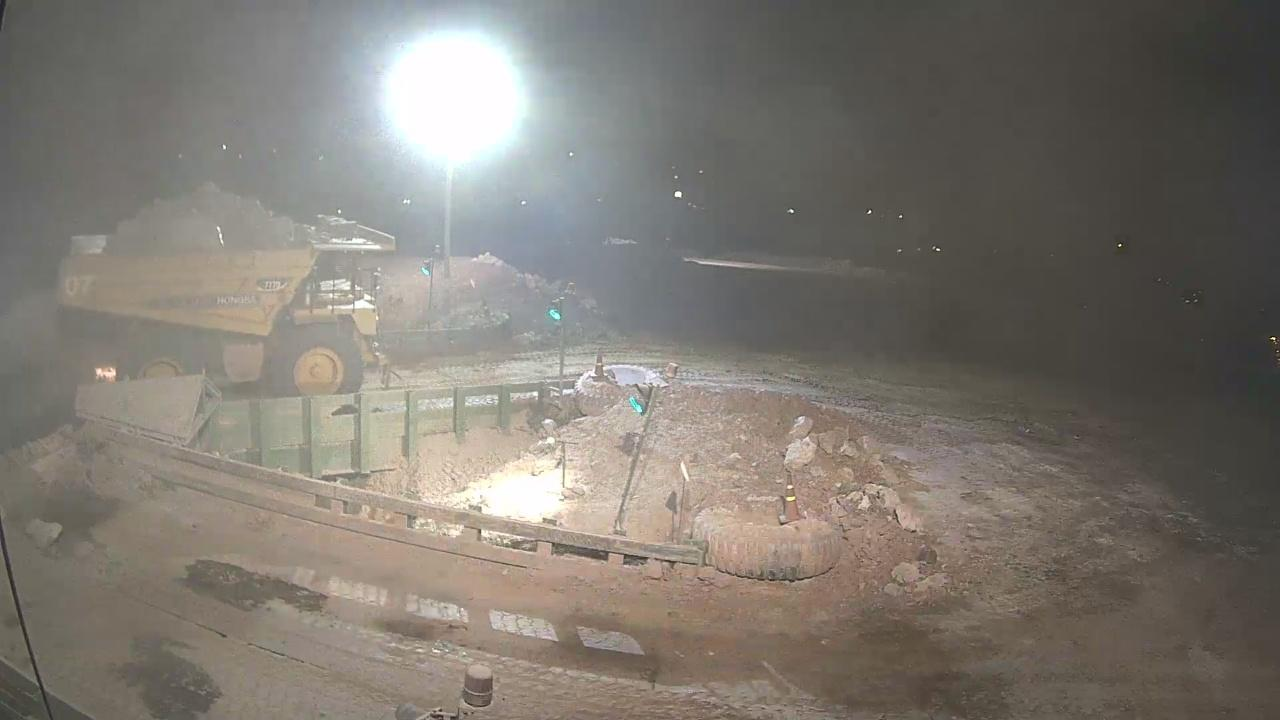dust: (23, 14, 346, 152)
mining_truck: (52, 181, 396, 399)
